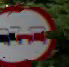No overtake: (0, 4, 52, 63)
